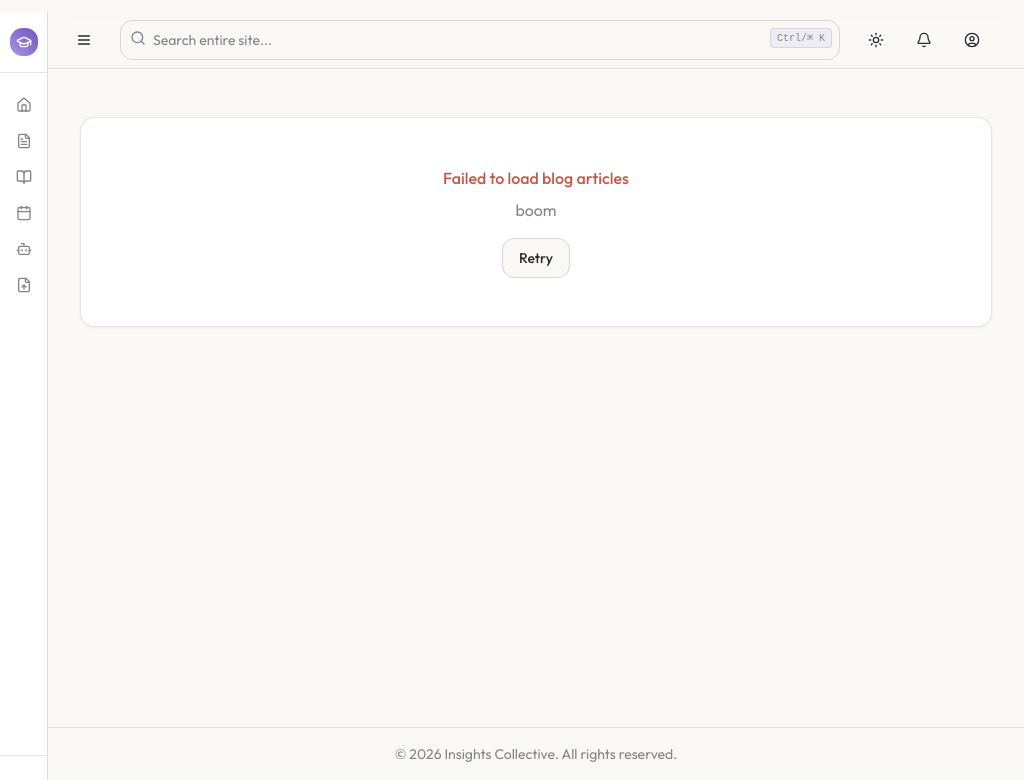
Test: Blog page › retry re-runs the load and recovers
Click the button "Retry" at (536, 258), box [502,238,570,278]
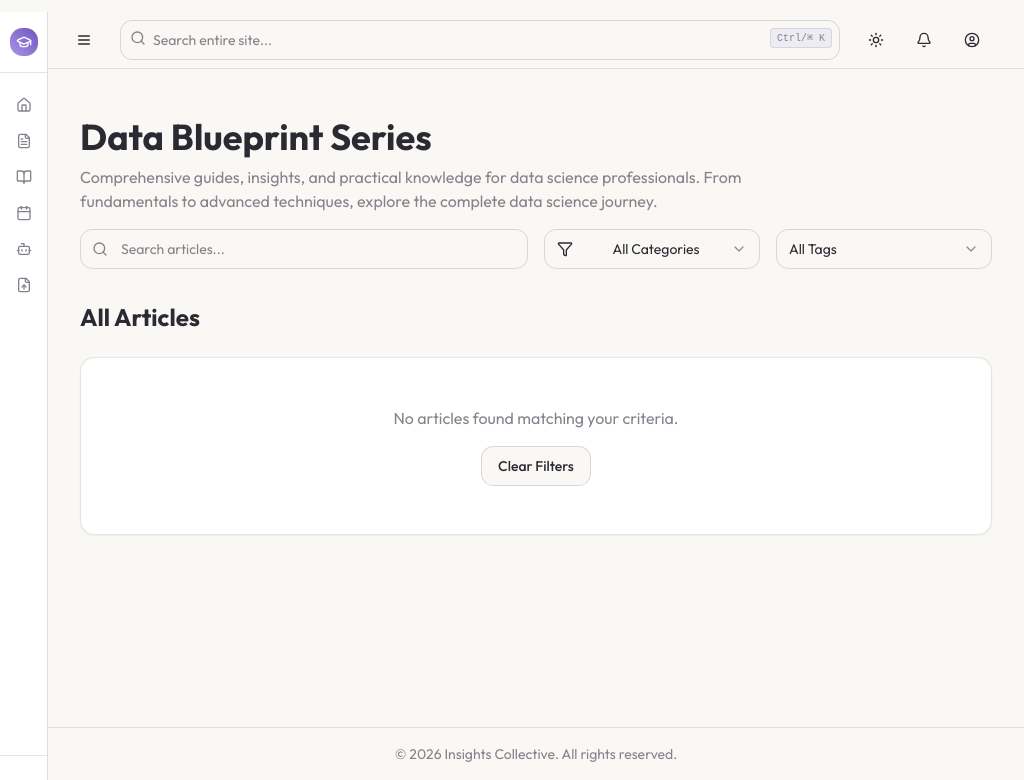
Expected: the text "No articles found matching your criteria." is shown, [394,408,678,428]
Expected: the text "Failed to load blog articles" is gone
